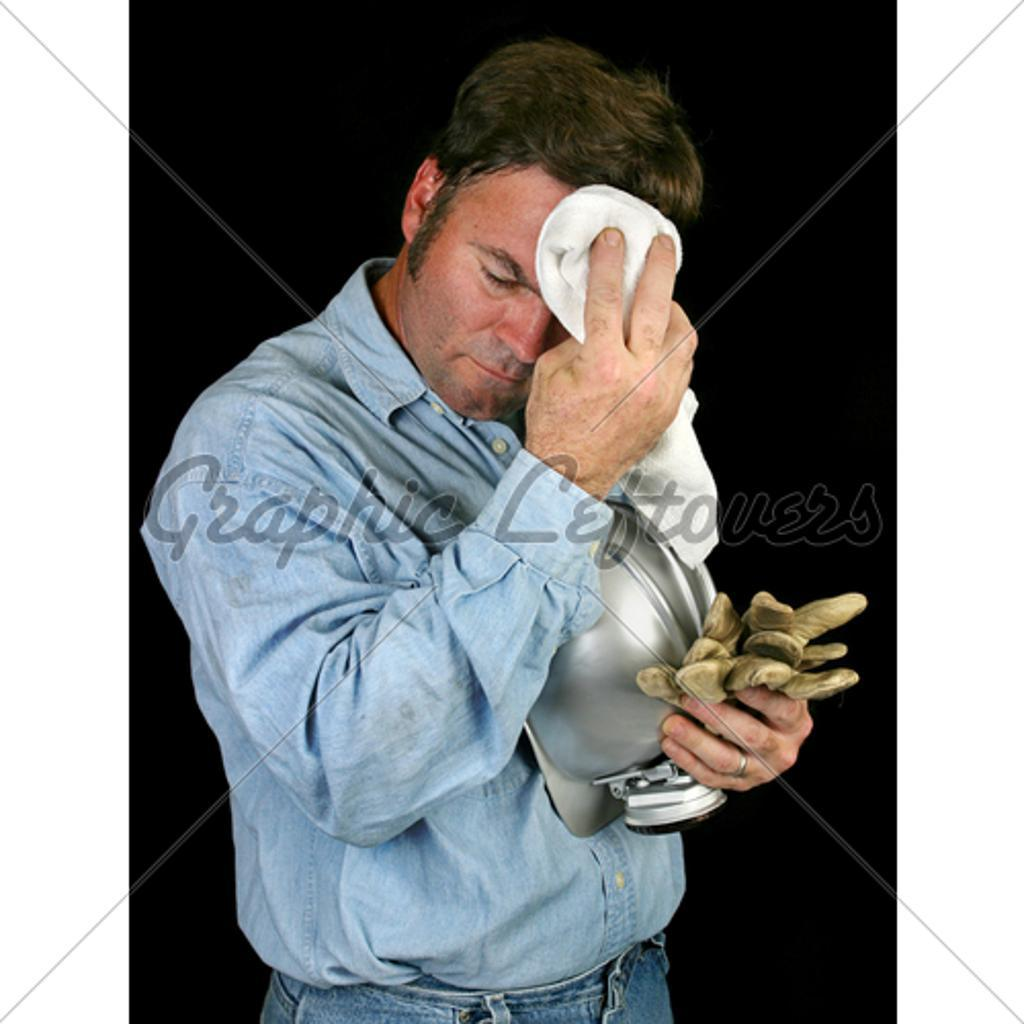face: (453, 181, 615, 417)
